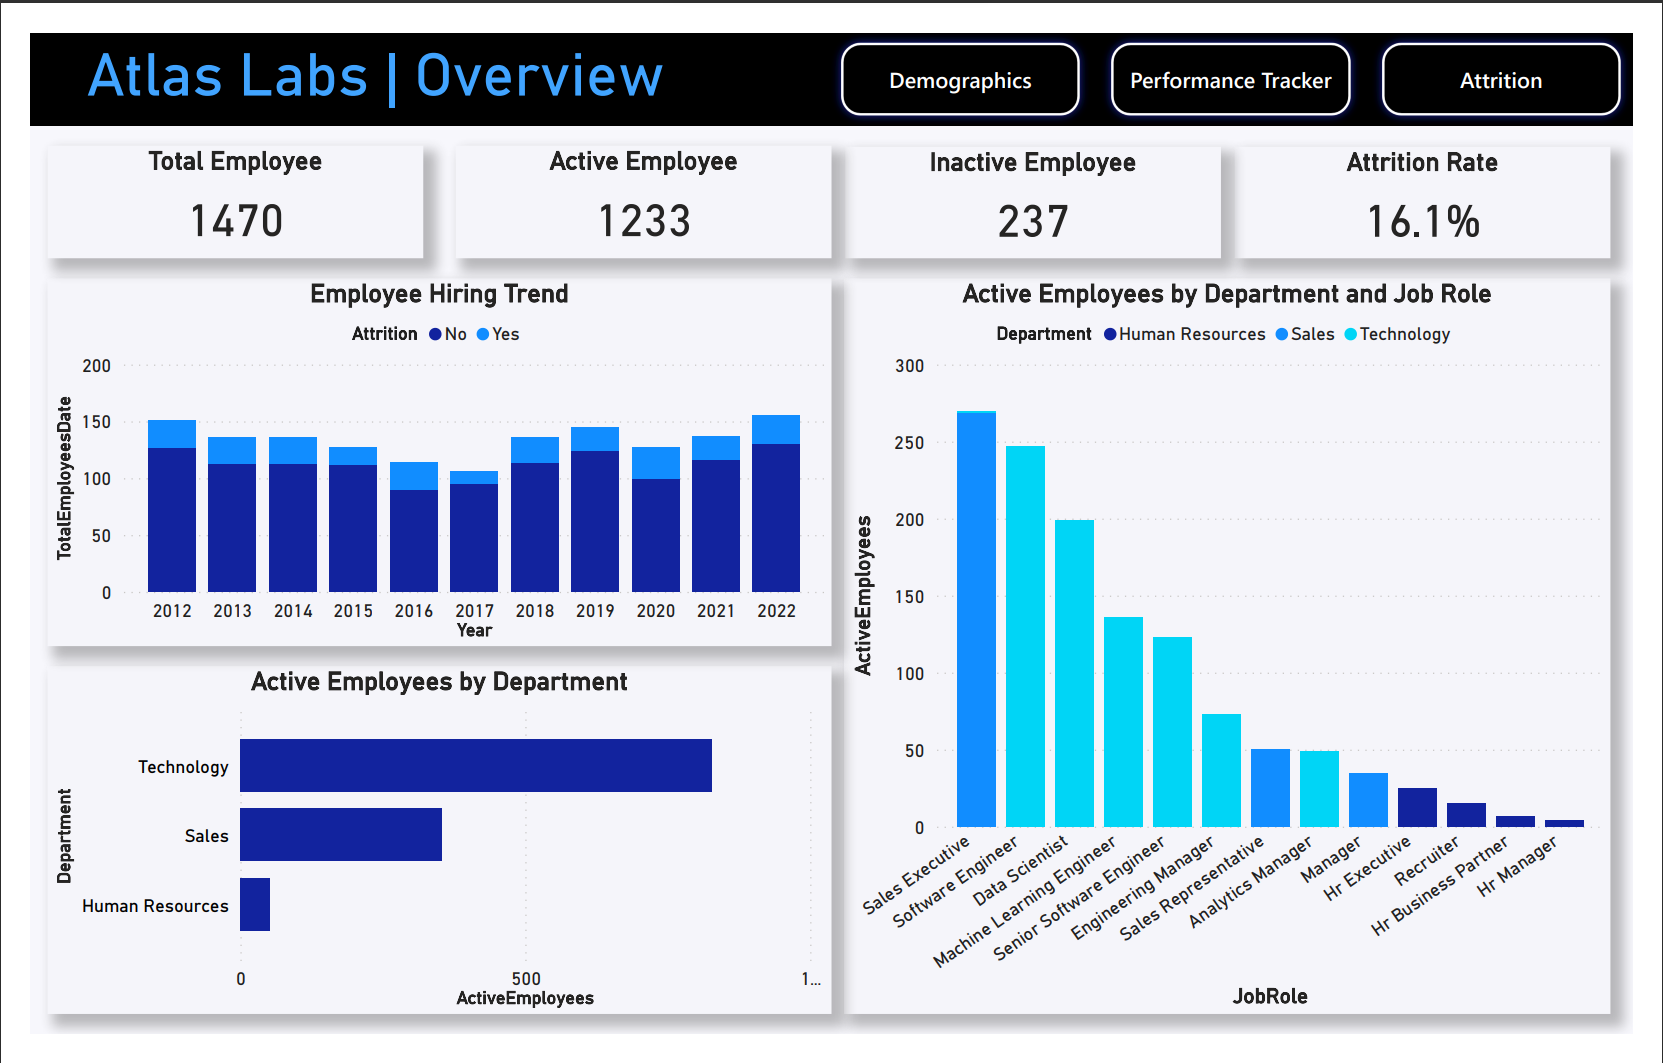

The dashboard page shown, as its layout file describes it:
{"tool":"powerbi","page":{"name":"Overview","canvas":[1280,800],"ordinal":0},"visuals":[{"type":"card","title":"Attrition Rate","fields":{"Values":["_Measures.% Arrition Rate"]},"box":[961.8,90.9,300,89.1],"z":0},{"type":"columnChart","title":"Employee Hiring Trend","fields":{"Category":["DimDate.Date.Variation.Date Hierarchy.Year","DimDate.Date.Variation.Date Hierarchy.Quarter","DimDate.Date.Variation.Date Hierarchy.Month","DimDate.Date.Variation.Date Hierarchy.Day"],"Y":["_Measures.TotalEmployeesDate"],"Series":["DimEmployee.Attrition"]},"box":[14,196,626,294],"z":1000},{"type":"clusteredBarChart","title":"Active Employees by Department","fields":{"Y":["_Measures.ActiveEmployees"],"Category":["DimEmployee.Department"]},"box":[14,506,626,278],"z":2000},{"type":"columnChart","title":"Active Employees by Department and Job Role","fields":{"Category":["DimEmployee.JobRole"],"Y":["_Measures.ActiveEmployees"],"Series":["DimEmployee.Department"]},"box":[650,196,612,588],"z":3000},{"type":"card","title":"Active Employee","fields":{"Values":["_Measures.ActiveEmployees"]},"box":[340,90,300,90],"z":4000},{"type":"card","title":"Inactive Employee","fields":{"Values":["_Measures.InactiveEmployees"]},"box":[650.9,90.9,300,89.1],"z":5000},{"type":"card","title":"Total Employee","fields":{"Values":["_Measures.TotalEmployees"]},"box":[14,90,300,90],"z":6000},{"type":"textbox","box":[0,0,1280,74],"z":7000},{"type":"pageNavigator","box":[640,0,640,74.5],"z":8000}]}

Visuals, with their boxes in screenshot pixels (x1, y1, x2, y2), scaled from the page's 1280x800 canvas onto the 1663x1063 screenshot:
"Attrition Rate" card: 1250:121:1639:239
"Employee Hiring Trend" columnChart: 18:260:832:651
"Active Employees by Department" clusteredBarChart: 18:672:832:1042
"Active Employees by Department and Job Role" columnChart: 844:260:1640:1042
"Active Employee" card: 442:120:832:239
"Inactive Employee" card: 846:121:1235:239
"Total Employee" card: 18:120:408:239
textbox: 0:0:1662:98
pageNavigator: 832:0:1662:99
